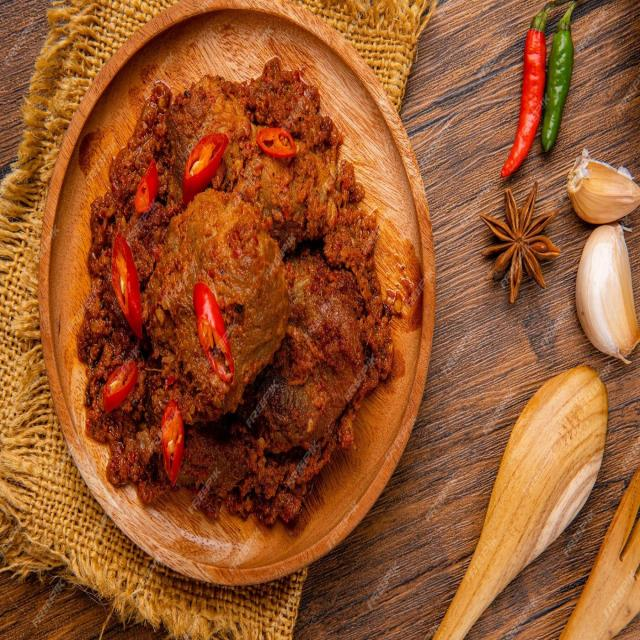Rendang: (54, 71, 416, 531)
